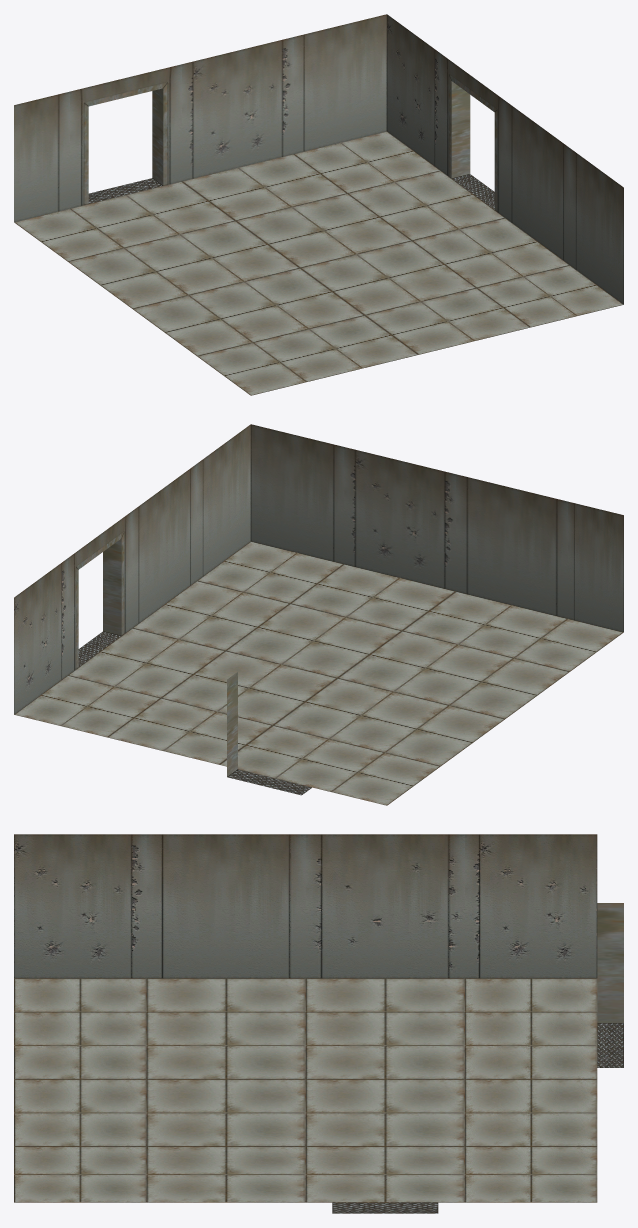
The model's file is ControlTowerInt01E.glb.
The picture shows the model from 3 angles, top to bottom: view 1: azimuth 30°, elevation 25°; view 2: azimuth 150°, elevation 25°; view 3: azimuth 270°, elevation 25°; orthographic projection. The views are drawn at different scales.
Visible parts, largest first — view 1: CONTROLTOWERINT01E; view 2: CONTROLTOWERINT01E; view 3: CONTROLTOWERINT01E.
Boxes of the visible parts, x1=… form: CONTROLTOWERINT01E: x1=14, y1=14, x2=623, y2=395; CONTROLTOWERINT01E: x1=14, y1=424, x2=623, y2=805; CONTROLTOWERINT01E: x1=14, y1=834, x2=623, y2=1213.
Bounding box in the file's own units: 10.5 × 3 × 11.5.
Materials: 7 (7 with a texture image).
